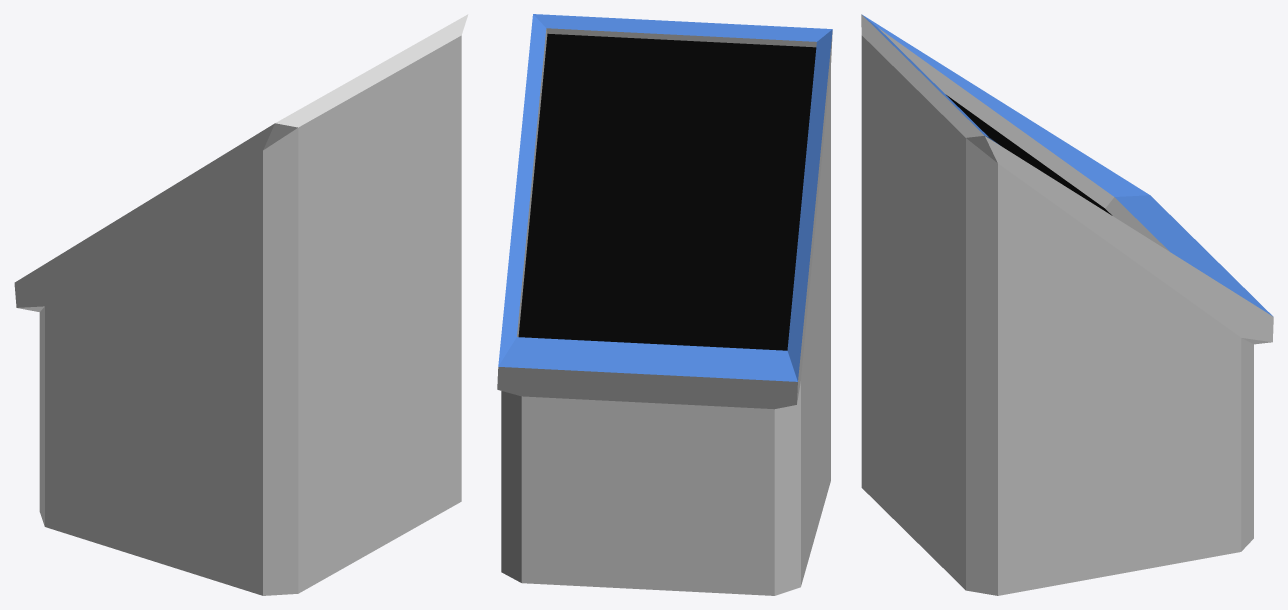
File: monitor.fbx
3 views of the same model, side by side, from view 1: azimuth 30°, elevation 25°; view 2: azimuth 150°, elevation 25°; view 3: azimuth 270°, elevation 25° (orthographic). The views are drawn at different scales.
Parts seen in each view (by area): view 1: monitor; view 2: monitor; view 3: monitor.
Boxes of the visible parts, x1,y1,x2,y2 form: monitor: [14, 14, 468, 595]; monitor: [497, 14, 832, 595]; monitor: [861, 14, 1273, 595].
Size of the model in its own units: 110 by 136 by 110.
